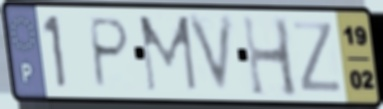1: (41, 12, 70, 92)
H: (239, 12, 302, 100)
M: (136, 13, 201, 95)
P: (88, 15, 133, 91)
V: (183, 12, 238, 99)
Z: (290, 19, 346, 95)
